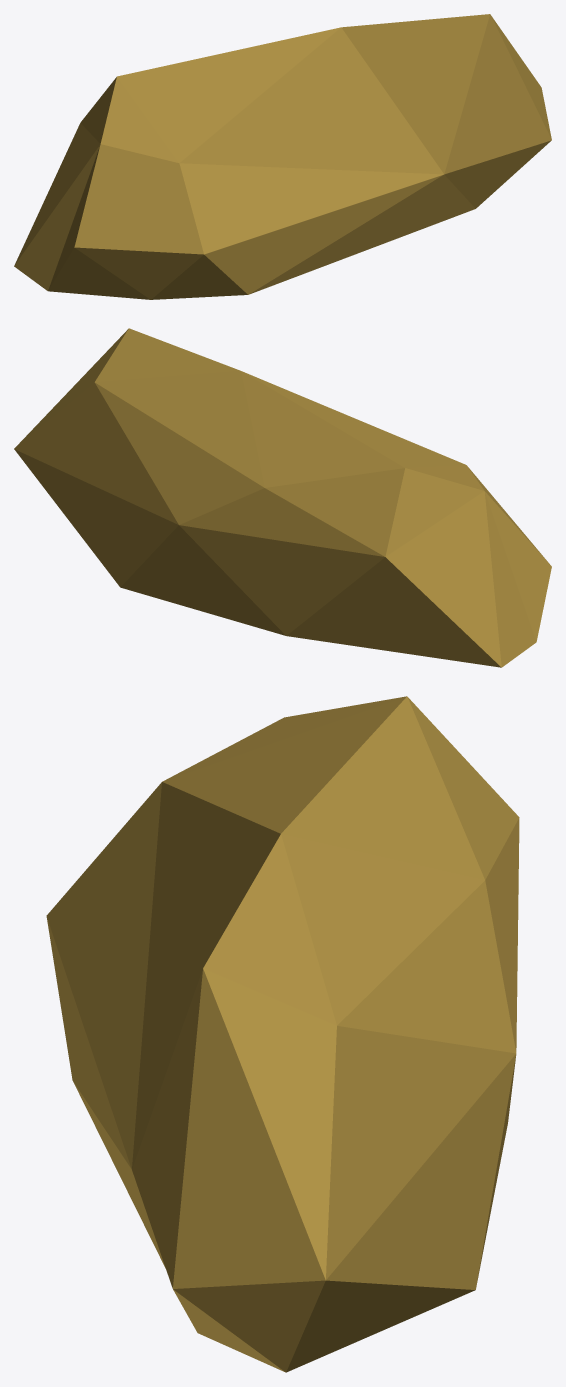
The model's file is co_Bush02_B.fbx.
3 views of the same model, one above another, from view 1: azimuth 30°, elevation 25°; view 2: azimuth 150°, elevation 25°; view 3: azimuth 270°, elevation 25° (orthographic). The views are drawn at different scales.
Visible parts, largest first — view 1: Bush02_B; view 2: Bush02_B; view 3: Bush02_B.
Part boxes in pixels (box(x1,y1,x2,y2)): Bush02_B: box(14, 14, 551, 299); Bush02_B: box(14, 328, 551, 667); Bush02_B: box(46, 696, 519, 1372).
Bounding box in the file's own units: 8.85 × 3.26 × 3.6.
